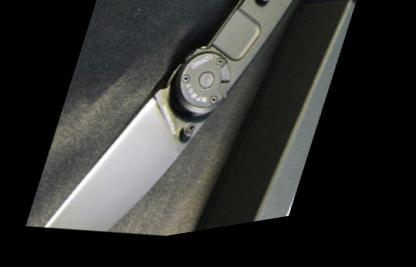knife: (27, 55, 226, 259)
